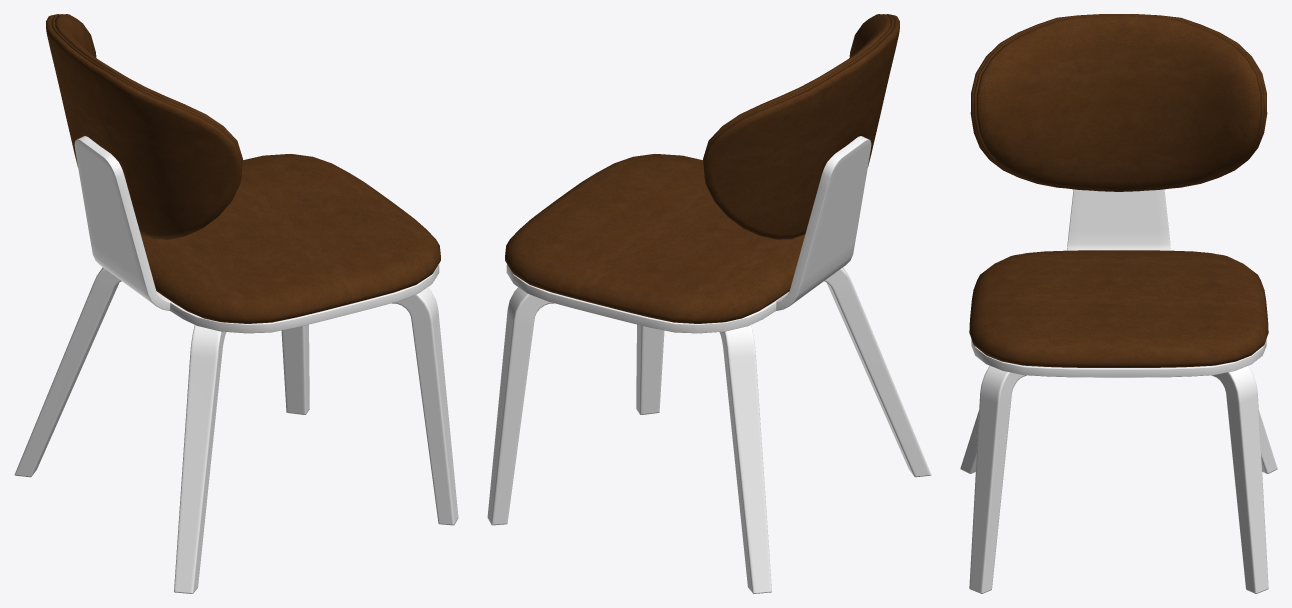
Rendered from chair.glb.
3 renders of one model, left to right at view 1: azimuth 30°, elevation 25°; view 2: azimuth 150°, elevation 25°; view 3: azimuth 270°, elevation 25°, orthographic. The views are drawn at different scales.
Parts seen in each view (by area): view 1: Plane.002, Cube.003; view 2: Plane.002, Cube.003; view 3: Plane.002, Cube.003.
Part boxes in pixels (box(x1,y1,x2,y2)): Plane.002: box(46, 14, 440, 323); Cube.003: box(14, 136, 458, 593); Plane.002: box(505, 14, 899, 323); Cube.003: box(487, 136, 931, 593); Plane.002: box(969, 14, 1268, 367); Cube.003: box(960, 189, 1277, 593).
Size of the model in its own units: 0.5603 by 0.8204 by 0.5309.
Materials: 2 (1 with a texture image).
